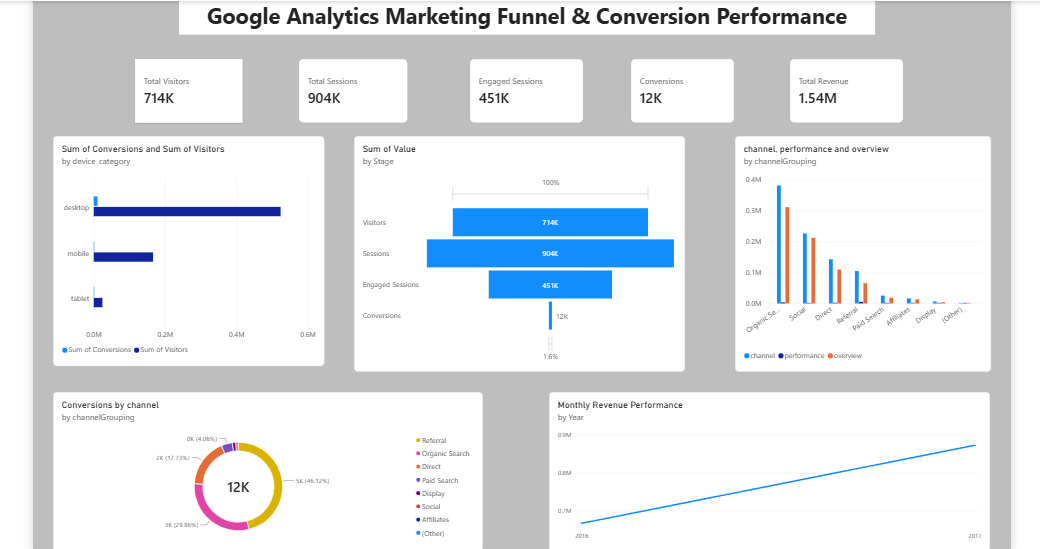

The page's visual inventory and layout, read from the dashboard file:
{"tool":"powerbi","page":{"name":"Marketing Funnel Overview","canvas":[1920,1080],"ordinal":0},"visuals":[{"type":"textbox","box":[286.5,0,1366.5,66.1],"z":0},{"type":"cardVisual","fields":{"Data":["Sum(kpi_summary_clean.Total Visitors)"]},"box":[200.6,114.6,211.6,125.6],"z":1},{"type":"cardVisual","fields":{"Data":["Sum(kpi_summary_clean.Total Sessions)"]},"box":[522.4,114.6,213.8,125.6],"z":2},{"type":"cardVisual","fields":{"Data":["Sum(kpi_summary_clean.Engaged Sessions)"]},"box":[857.4,114.6,222.6,125.6],"z":3},{"type":"cardVisual","fields":{"Data":["Sum(kpi_summary_clean.Conversions)"]},"box":[1174.8,114.6,202.8,125.6],"z":4},{"type":"cardVisual","fields":{"Data":["Sum(kpi_summary_clean.Total Revenue)"]},"box":[1485.6,114.6,222.6,125.6],"z":5},{"type":"funnel","fields":{"Category":["Funnel2.Stage"],"Y":["Sum(Funnel2.Value)"]},"box":[630.4,264.5,650.2,462.9],"z":6},{"type":"clusteredColumnChart","fields":{"Category":["channel_performance.channelGrouping"],"Y":["Sum(channel_performance.Sessions)","Sum(channel_performance.Conversions)","Sum(channel_performance.Visitors)"]},"box":[1377.6,264.5,502.5,462.9],"z":7},{"type":"donutChart","fields":{"Category":["channel_performance.channelGrouping"],"Y":["Sum(channel_performance.Conversions)"]},"box":[39.7,767,844.2,313],"z":8},{"type":"lineChart","fields":{"Category":["monthly_performance.month.Variation.Date Hierarchy.Year","monthly_performance.month.Variation.Date Hierarchy.Quarter","monthly_performance.month.Variation.Date Hierarchy.Month","monthly_performance.month.Variation.Date Hierarchy.Day"],"Y":["Sum(monthly_performance.Revenue)"]},"box":[1013.9,767,866.2,313],"z":9},{"type":"clusteredBarChart","fields":{"Category":["device_performance.device_category"],"Y":["Sum(device_performance.Conversions)","Sum(device_performance.Visitors)"]},"box":[39.7,264.5,533.4,451.8],"z":10}]}

Visuals, with their boxes on the page's 1920x1080 design canvas (x1, y1, x2, y2). These are canvas units, not pixel positions in the 1040x549 screenshot, which may show the page scaled, cropped or inside an application window:
textbox: 286, 0, 1653, 66
cardVisual - Sum(kpi_summary_clean.Total Visitors): 201, 115, 412, 240
cardVisual - Sum(kpi_summary_clean.Total Sessions): 522, 115, 736, 240
cardVisual - Sum(kpi_summary_clean.Engaged Sessions): 857, 115, 1080, 240
cardVisual - Sum(kpi_summary_clean.Conversions): 1175, 115, 1378, 240
cardVisual - Sum(kpi_summary_clean.Total Revenue): 1486, 115, 1708, 240
funnel - Funnel2.Stage x Sum(Funnel2.Value): 630, 264, 1281, 727
clusteredColumnChart - channel_performance.channelGrouping x Sum(channel_performance.Sessions): 1378, 264, 1880, 727
donutChart - channel_performance.channelGrouping x Sum(channel_performance.Conversions): 40, 767, 884, 1080
lineChart - monthly_performance.month.Variation.Date Hierarchy.Year x monthly_performance.month.Variation.Date Hierarchy.Quarter: 1014, 767, 1880, 1080
clusteredBarChart - device_performance.device_category x Sum(device_performance.Conversions): 40, 264, 573, 716
